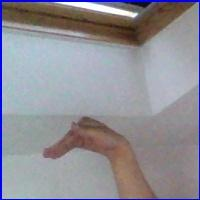del: (43, 112, 133, 169)
